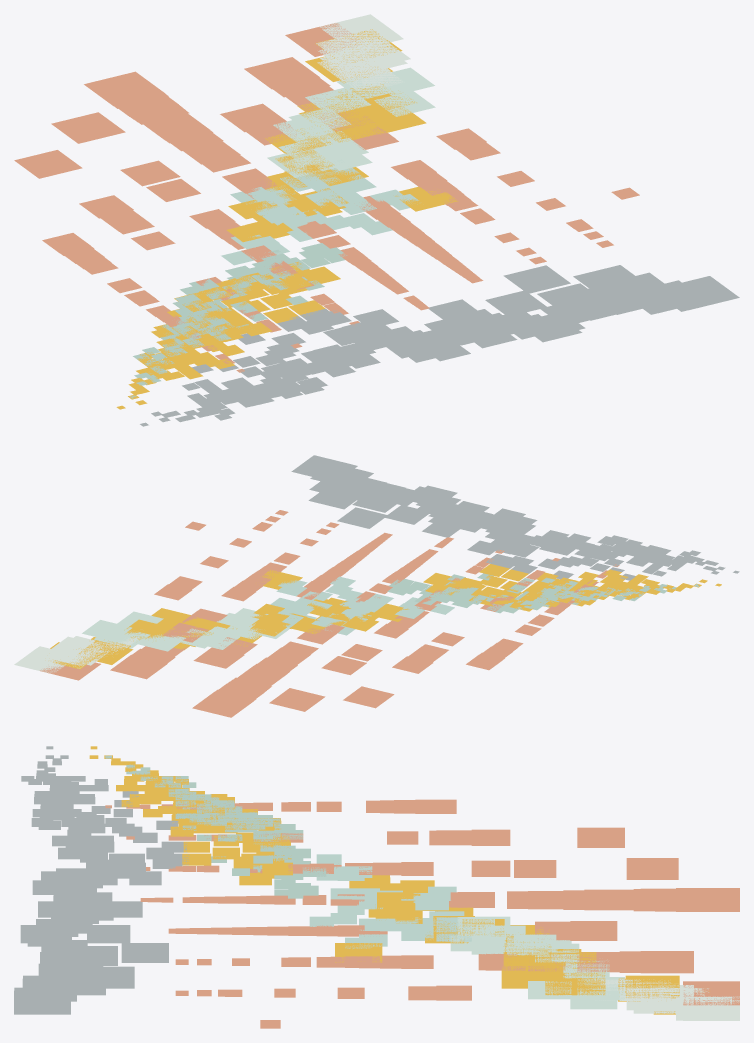
The model's file is MAX-CPI.gltf.
3 views of the same model, one above another, from view 1: azimuth 30°, elevation 25°; view 2: azimuth 150°, elevation 25°; view 3: azimuth 270°, elevation 25° (orthographic). The views are drawn at different scales.
Visible parts, largest first — view 1: surveys used - CPI, standard deviation, MAX - CPI, MIN - CPI; view 2: surveys used - CPI, standard deviation, MAX - CPI, MIN - CPI; view 3: surveys used - CPI, standard deviation, MAX - CPI, MIN - CPI.
Boxes of the visible parts, bbox=[...] form: surveys used - CPI: bbox=[14, 23, 639, 372]; standard deviation: bbox=[140, 265, 739, 426]; MAX - CPI: bbox=[129, 14, 435, 398]; MIN - CPI: bbox=[116, 29, 458, 409]; surveys used - CPI: bbox=[40, 510, 619, 717]; standard deviation: bbox=[291, 455, 739, 580]; MAX - CPI: bbox=[14, 573, 699, 672]; MIN - CPI: bbox=[50, 564, 721, 669]; surveys used - CPI: bbox=[105, 799, 739, 1028]; standard deviation: bbox=[14, 746, 189, 1014]; MAX - CPI: bbox=[105, 755, 739, 1020]; MIN - CPI: bbox=[89, 746, 709, 1014].
Bounding box in the file's own units: 9.08 × 2.19e-15 × 9.88.
